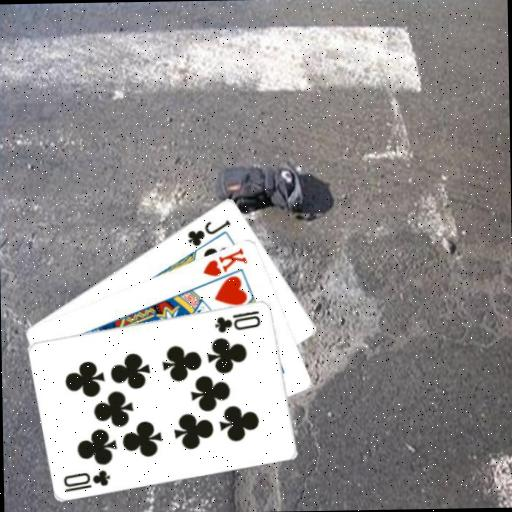10C: (60, 467, 112, 494), (212, 307, 263, 334)
JC: (184, 216, 233, 248)
KH: (200, 244, 250, 278)
